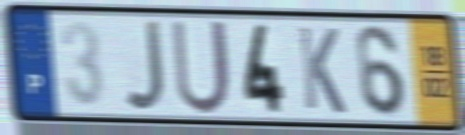3: (59, 18, 107, 111)
4: (242, 21, 288, 116)
6: (354, 22, 410, 121)
J: (121, 17, 167, 114)
K: (295, 23, 348, 117)
U: (168, 17, 234, 119)
